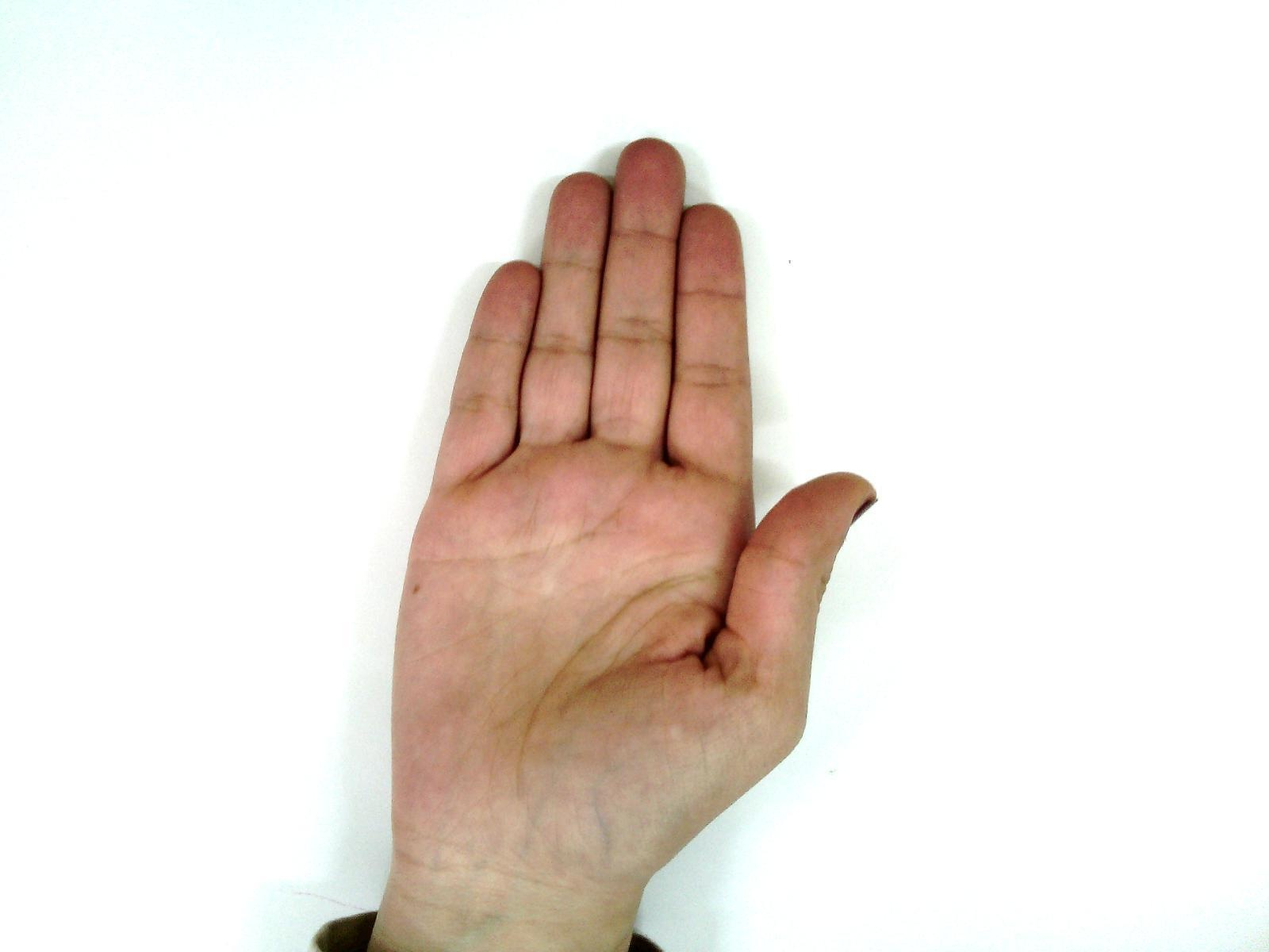open_palm: (363, 136, 878, 893)
